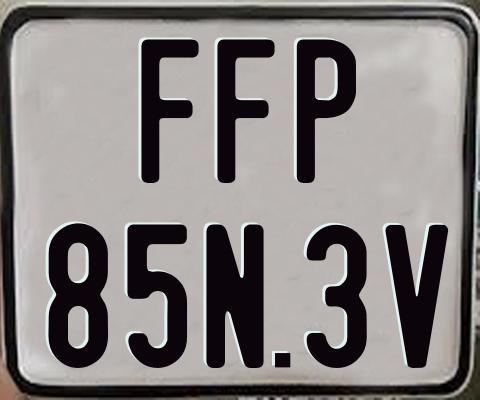3: (305, 224, 368, 373)
5: (126, 224, 189, 374)
8: (47, 221, 112, 367)
F: (139, 36, 198, 186), (217, 36, 277, 183)
N: (204, 222, 266, 372)
P: (295, 36, 357, 186)
V: (383, 223, 449, 369)
